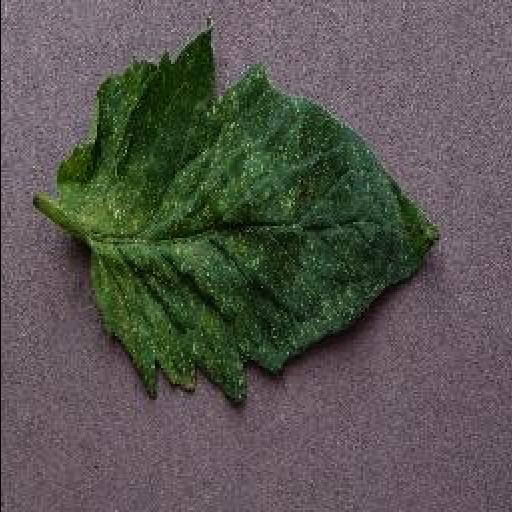disease_tomato: (54, 28, 442, 406)
